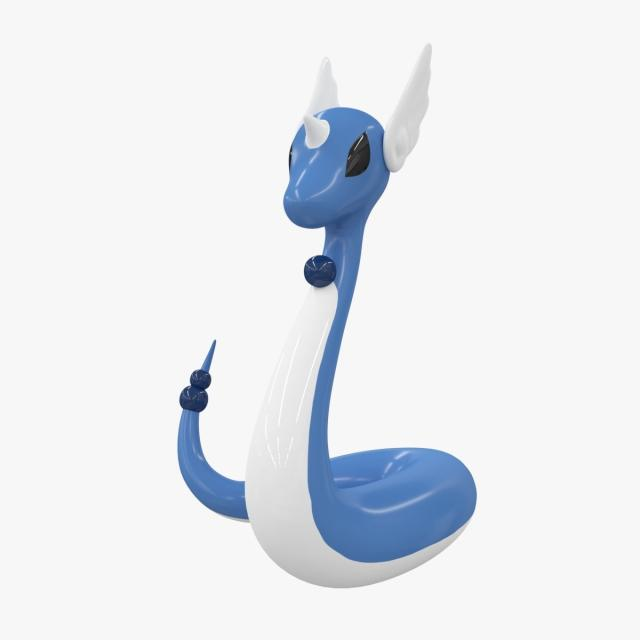Dragonair: (239, 44, 478, 591)
